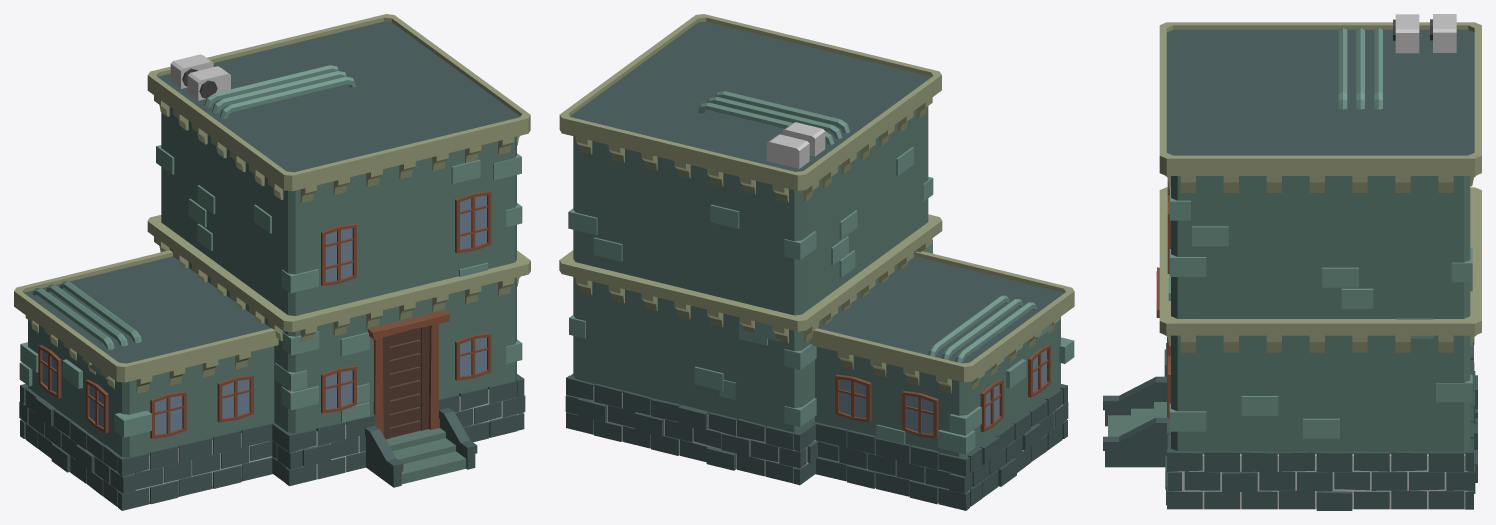
The model's file is 2story_sidehouse_mat.glb.
3 renders of one model, left to right at view 1: azimuth 30°, elevation 25°; view 2: azimuth 150°, elevation 25°; view 3: azimuth 270°, elevation 25°, orthographic. The views are drawn at different scales.
Parts seen in each view (by area): view 1: 2Story_Sidehouse_Mat; view 2: 2Story_Sidehouse_Mat; view 3: 2Story_Sidehouse_Mat.
Part boxes in pixels (left/top/right/bottom): 2Story_Sidehouse_Mat: left=14, top=14, right=530, bottom=510; 2Story_Sidehouse_Mat: left=559, top=14, right=1074, bottom=510; 2Story_Sidehouse_Mat: left=1103, top=14, right=1481, bottom=510.
Size of the model in its own units: 3.47 by 2.76 by 2.53.
